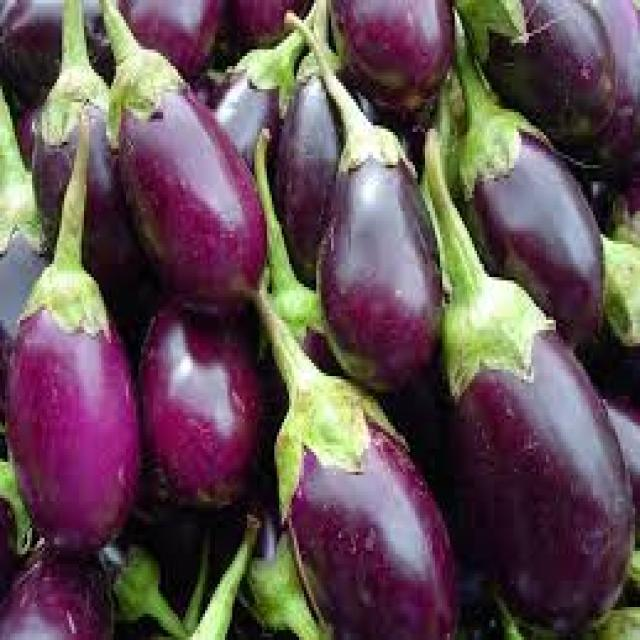eggplant: (236, 292, 489, 640), (420, 224, 640, 607), (86, 6, 282, 336), (6, 214, 175, 572), (442, 62, 616, 357), (314, 35, 452, 366), (130, 280, 297, 552), (19, 11, 145, 293), (255, 27, 372, 312), (472, 0, 640, 145), (316, 0, 469, 119)
